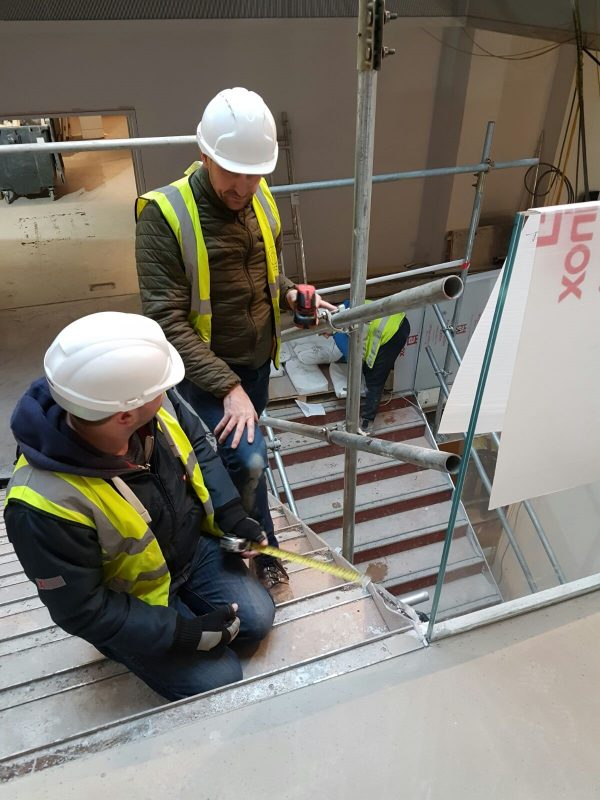Hard Hat: (31, 310, 182, 392), (194, 79, 282, 173)
High Viz: (8, 455, 171, 621), (129, 179, 213, 349), (156, 412, 215, 529), (252, 179, 290, 339), (346, 298, 402, 346)
